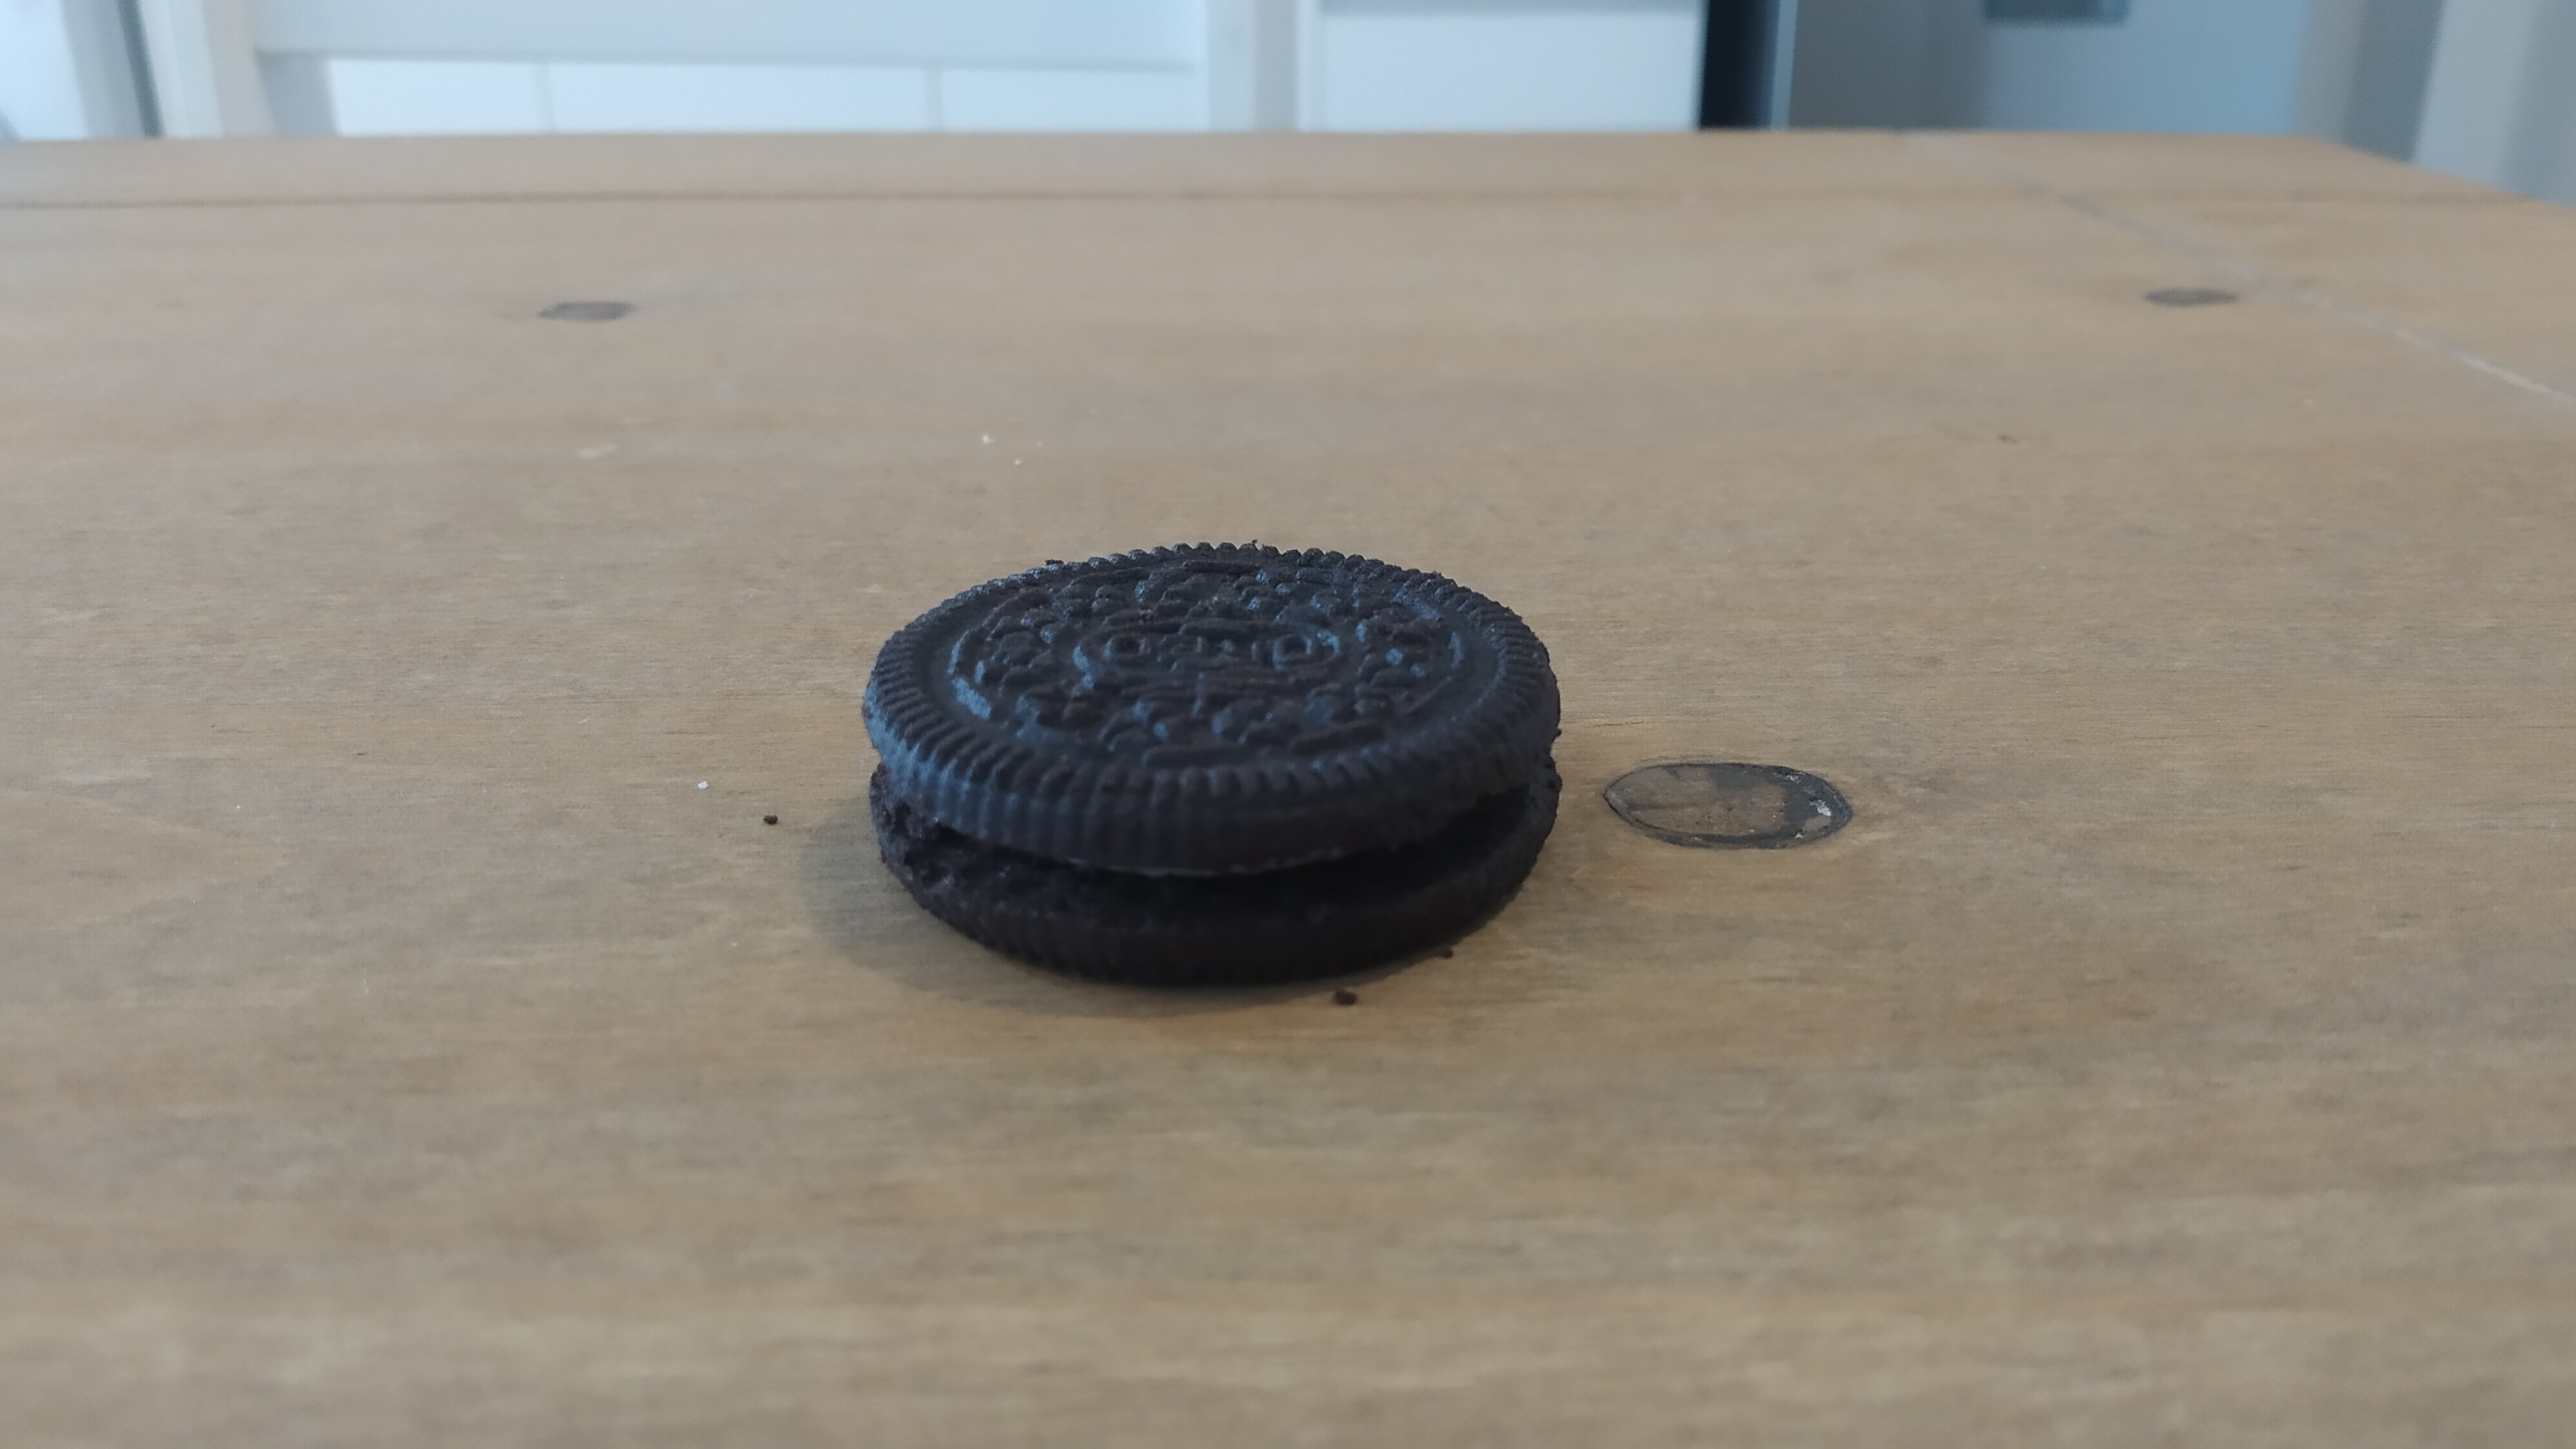oreo: (863, 540, 1562, 985)
